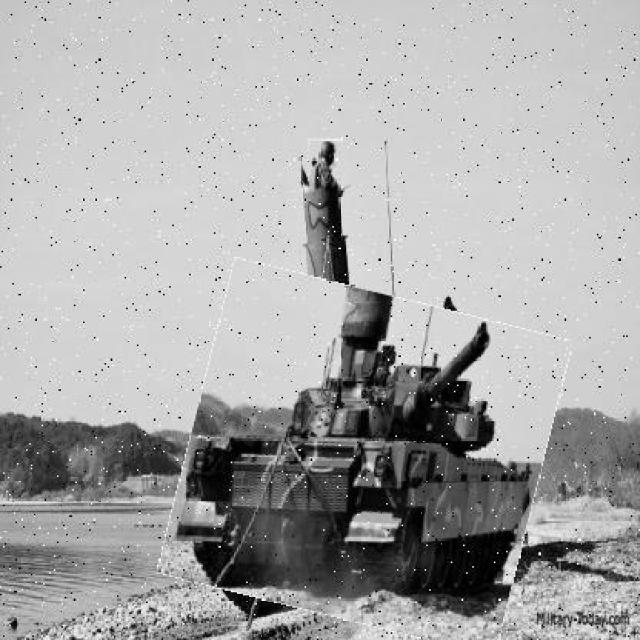Person: (309, 140, 346, 200)
Tank: (175, 276, 556, 638)
